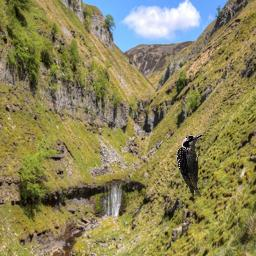Woodpecker: (174, 131, 205, 200)
